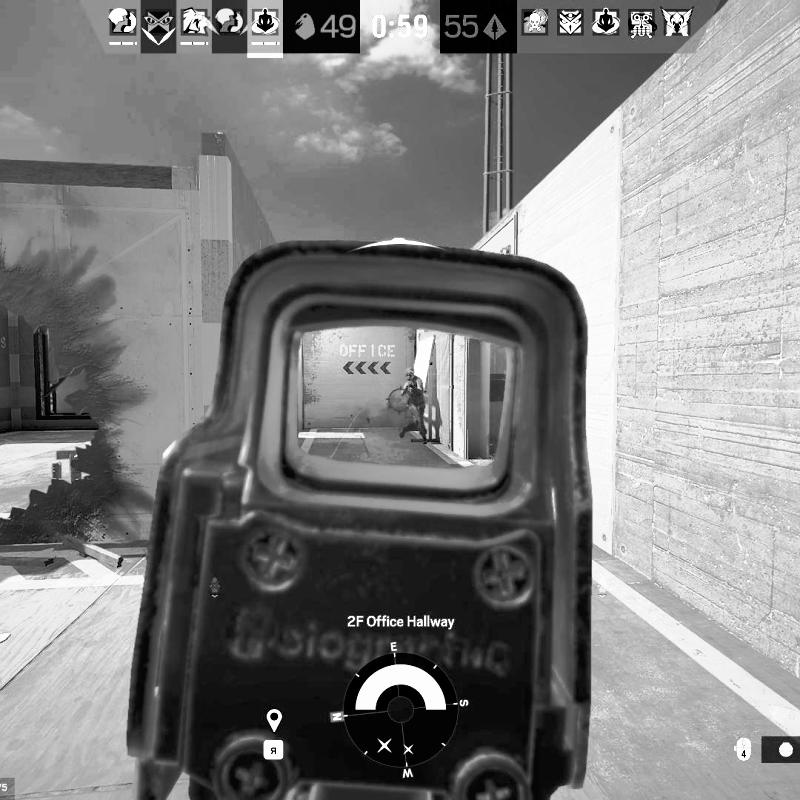Character: (396, 367, 428, 445)
Head: (404, 367, 416, 380)
